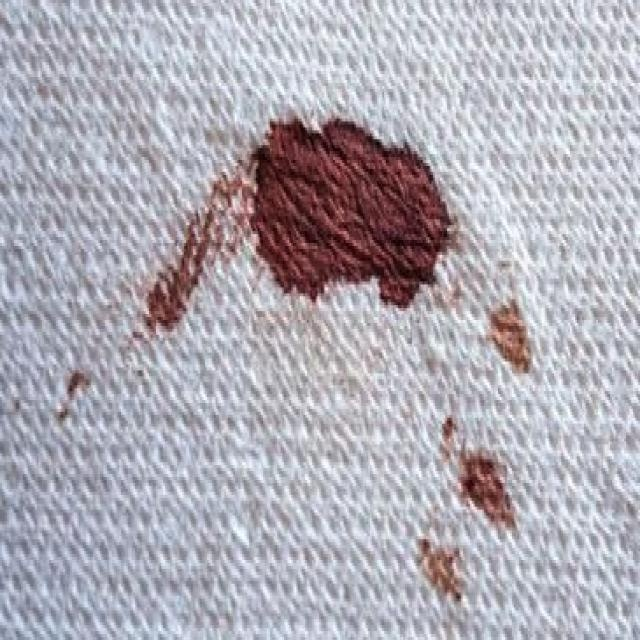blood: (249, 119, 452, 299)
